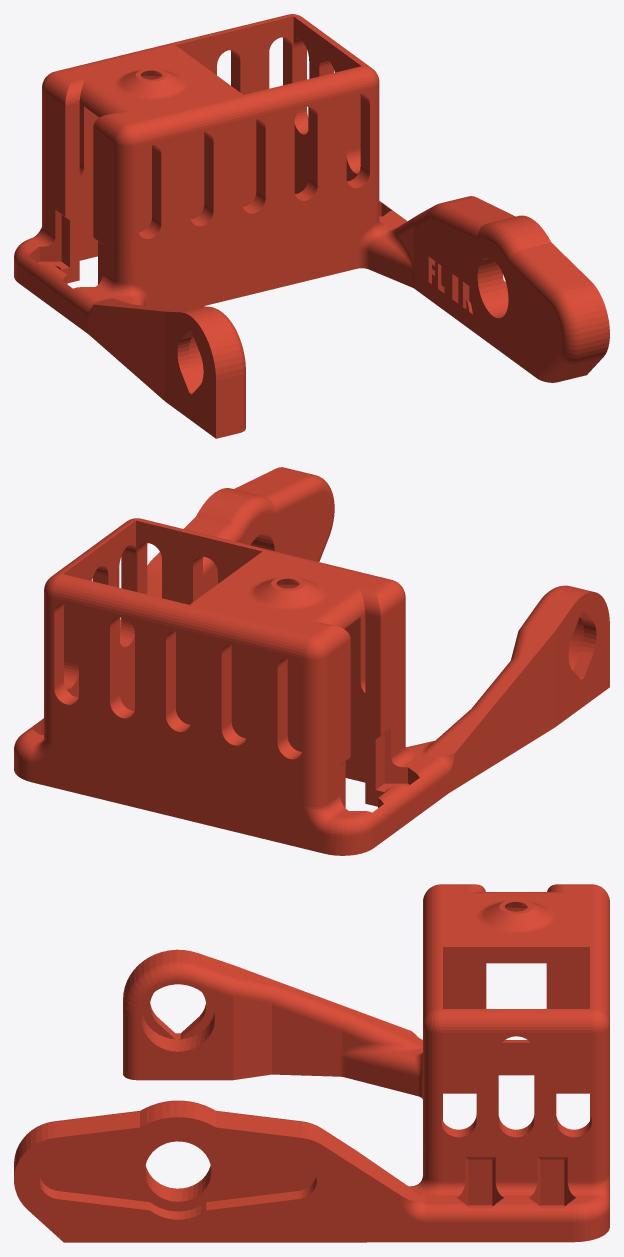
The picture shows the model from 3 angles, top to bottom: view 1: azimuth 30°, elevation 25°; view 2: azimuth 150°, elevation 25°; view 3: azimuth 270°, elevation 25°; orthographic projection. The views are drawn at different scales.
Parts seen in each view (by area): view 1: Link1L.stl; view 2: Link1L.stl; view 3: Link1L.stl.
Part boxes in pixels (x1,y1,x2,y2): Link1L.stl: (14,14,609,438); Link1L.stl: (14,467,609,855); Link1L.stl: (14,884,609,1242).
Bounding box in the file's own units: 59.3 × 33.25 × 82.66.
